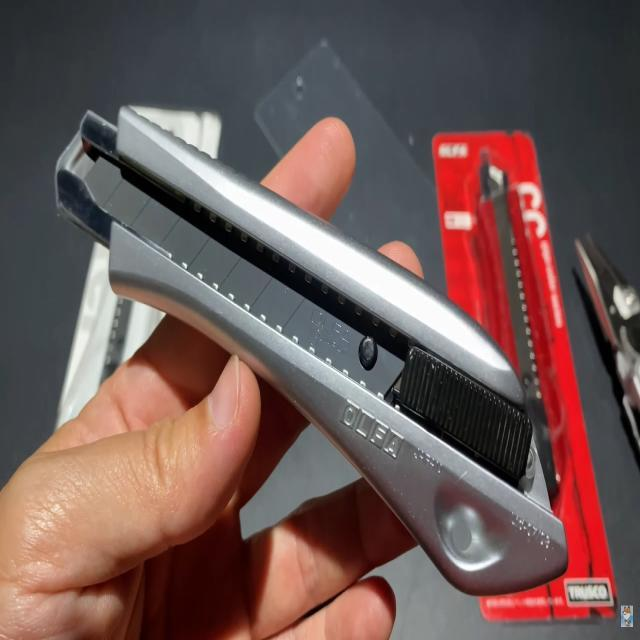cutter: (46, 39, 582, 635)
